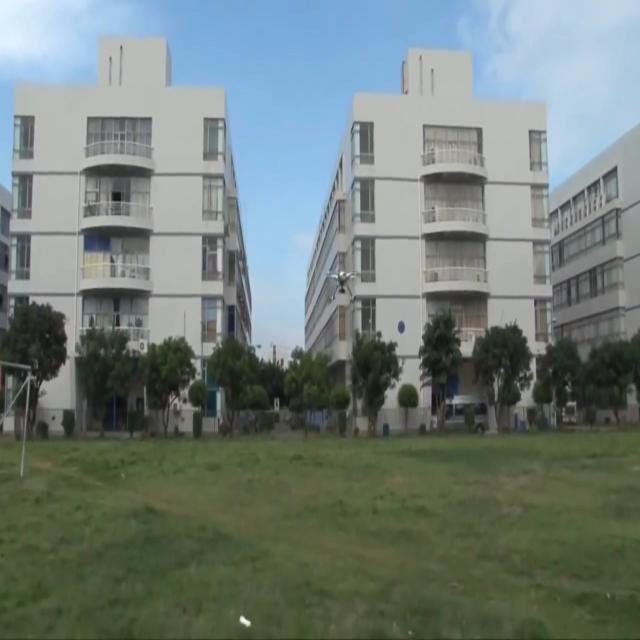drone: (326, 268, 356, 302)
